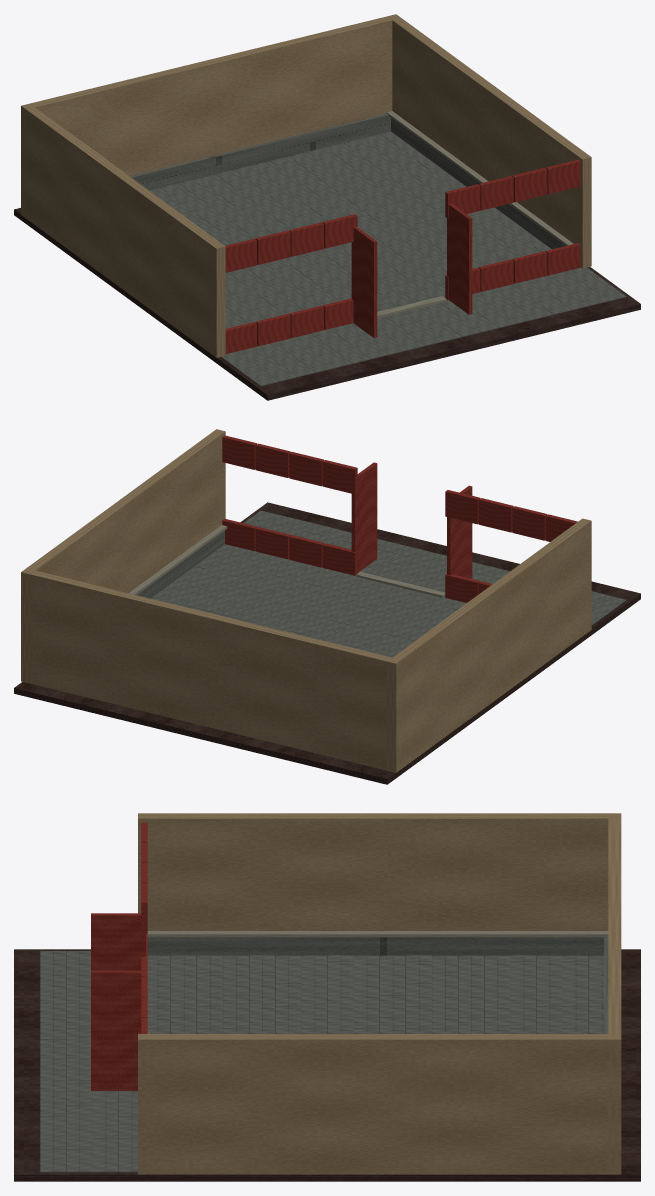
The model's file is hall_shell.glb.
3 views of the same model, one above another, from view 1: azimuth 30°, elevation 25°; view 2: azimuth 150°, elevation 25°; view 3: azimuth 270°, elevation 25° (orthographic). The views are drawn at different scales.
Parts seen in each view (by area): view 1: hall_shell0; view 2: hall_shell0; view 3: hall_shell0.
Boxes of the visible parts, x1,y1,x2,y2 form: hall_shell0: (14, 14, 640, 400); hall_shell0: (14, 429, 640, 784); hall_shell0: (14, 813, 640, 1181).
Bounding box in the file's own units: 20.5 × 6.03 × 24.
Materials: 1 (1 with a texture image).
